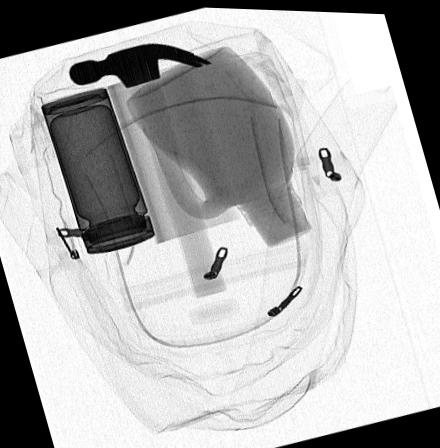Hammer: (68, 41, 227, 298)
